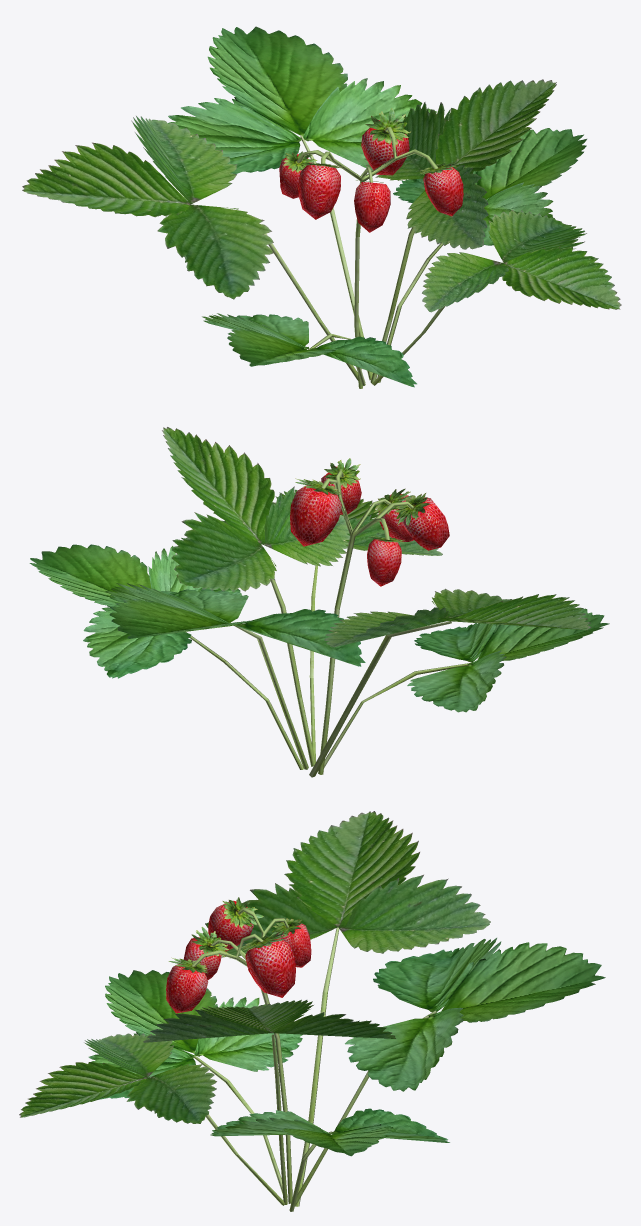
Rendered from StrawberryCuttable.fbx.
3 views of the same model, one above another, from view 1: azimuth 30°, elevation 25°; view 2: azimuth 150°, elevation 25°; view 3: azimuth 270°, elevation 25° (orthographic). The views are drawn at different scales.
Visible parts, largest first — view 1: Leaf.002, Leaf.004, Leaf.001, Leaf.005, Leaf, Leaf.003, fruit.001, fruit.005, fruit.003, fruit.006, fruit.004, HeartArea (+1 smaller); view 2: Leaf.001, Leaf, Leaf.002, Leaf.003, Leaf.004, fruit.001, HeartArea, fruit.005, fruit.006, Leaf.005, fruit, fruit.003 (+1 smaller); view 3: Leaf.004, Leaf.002, Leaf.005, Leaf.003, Leaf.001, Leaf, fruit.001, HeartArea, fruit.003, fruit.005, fruit.006, fruit.004 (+1 smaller).
Boxes of the visible parts, x1=… form: Leaf.002: x1=167, y1=26, x2=436, y2=305; Leaf.004: x1=22, y1=116, x2=322, y2=322; Leaf.001: x1=364, y1=79, x2=556, y2=319; Leaf.005: x1=421, y1=210, x2=621, y2=333; Leaf: x1=393, y1=128, x2=586, y2=306; Leaf.003: x1=202, y1=313, x2=416, y2=387; fruit.001: x1=361, y1=108, x2=410, y2=175; fruit.005: x1=297, y1=162, x2=343, y2=219; fruit.003: x1=420, y1=162, x2=463, y2=216; fruit.006: x1=296, y1=127, x2=438, y2=325; fruit.004: x1=354, y1=180, x2=390, y2=232; HeartArea: x1=319, y1=305, x2=424, y2=388; Leaf.001: x1=162, y1=427, x2=349, y2=697; Leaf: x1=29, y1=544, x2=268, y2=700; Leaf.002: x1=104, y1=583, x2=365, y2=718; Leaf.003: x1=361, y1=608, x2=609, y2=712; Leaf.004: x1=324, y1=588, x2=591, y2=722; fruit.001: x1=290, y1=478, x2=342, y2=546; HeartArea: x1=265, y1=677, x2=363, y2=777; fruit.005: x1=394, y1=493, x2=449, y2=550; fruit.006: x1=321, y1=470, x2=413, y2=707; Leaf.005: x1=221, y1=489, x2=442, y2=677; fruit: x1=367, y1=535, x2=404, y2=586; fruit.003: x1=321, y1=458, x2=361, y2=514; Leaf.004: x1=202, y1=811, x2=490, y2=1122; Leaf.002: x1=332, y1=938, x2=605, y2=1134; Leaf.005: x1=19, y1=1033, x2=238, y2=1154; Leaf.003: x1=88, y1=970, x2=302, y2=1113; Leaf.001: x1=143, y1=999, x2=395, y2=1149; Leaf: x1=210, y1=1108, x2=449, y2=1159; fruit.001: x1=240, y1=932, x2=295, y2=997; HeartArea: x1=235, y1=1122, x2=327, y2=1211; fruit.003: x1=166, y1=957, x2=208, y2=1013; fruit.005: x1=208, y1=897, x2=263, y2=951; fruit.006: x1=191, y1=907, x2=288, y2=1112; fruit.004: x1=183, y1=927, x2=228, y2=980.
Bounding box in the file's own units: 68.65 × 32.42 × 62.85.
Materials: 1 (1 with a texture image).
